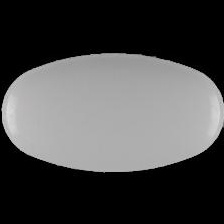63739-228: (0, 0, 224, 224)
